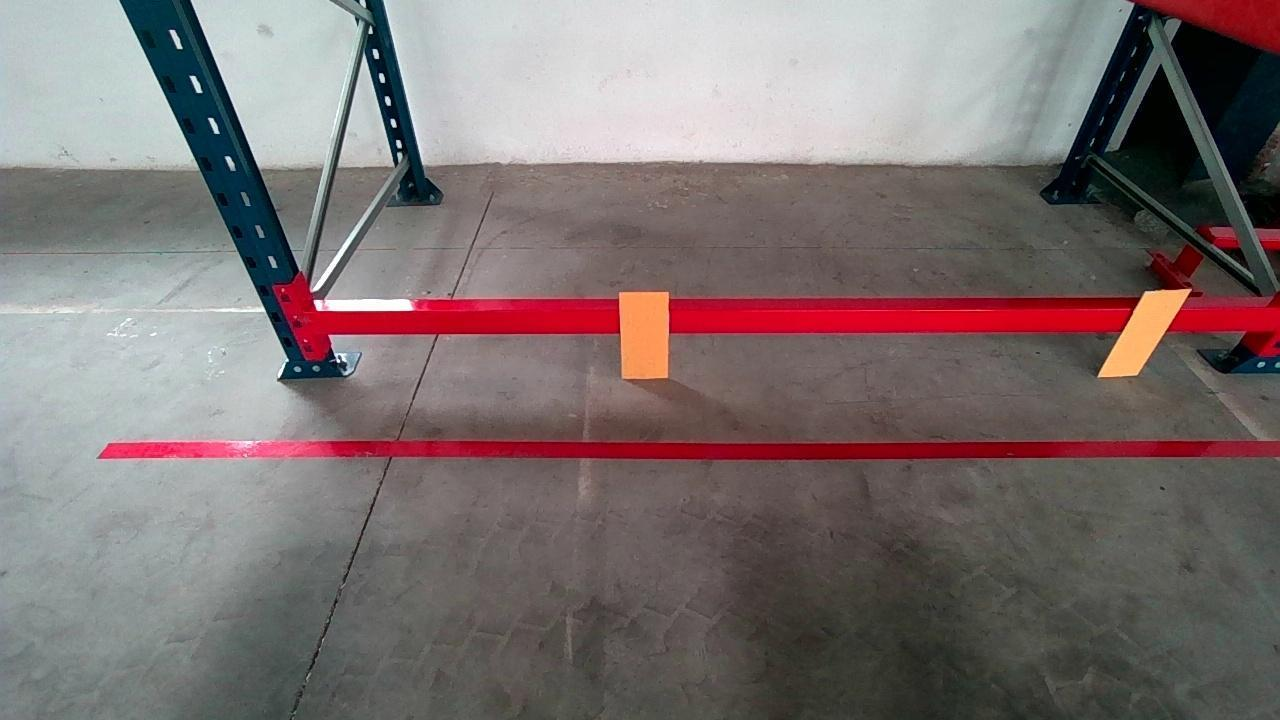h_rack: (323, 294, 1275, 335)
orange_strip: (1099, 290, 1190, 375), (620, 290, 671, 378)
red_line: (112, 429, 1263, 472)
